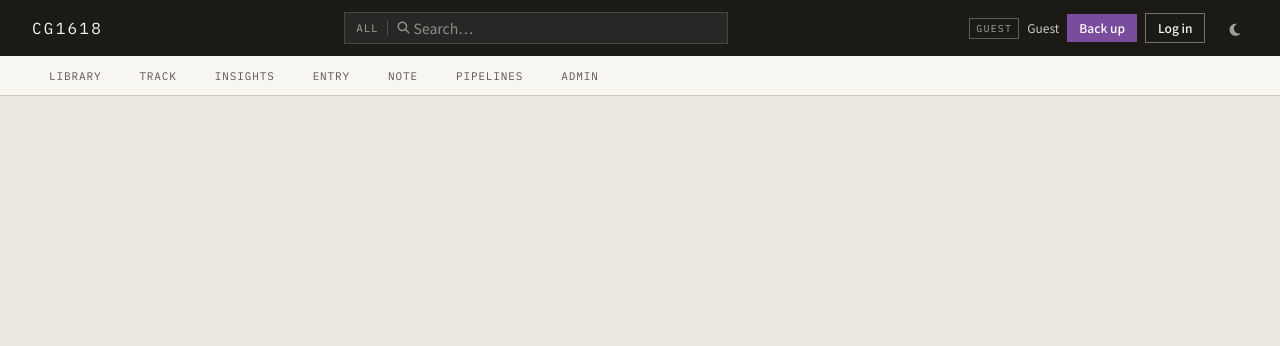
Scenario: Nav gated types › draws no Restricted tab for a session that cannot see the type
This screenshot has width=1280, height=346.
Click the button "Library": (75, 76) left=32, top=56, right=118, bottom=96
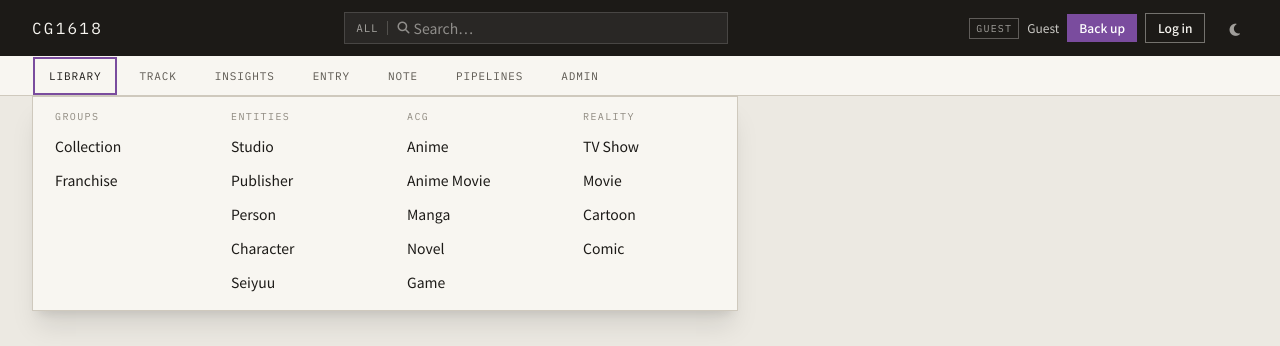
Result: the link "Manga" is shown at left=407, top=204, right=450, bottom=224
